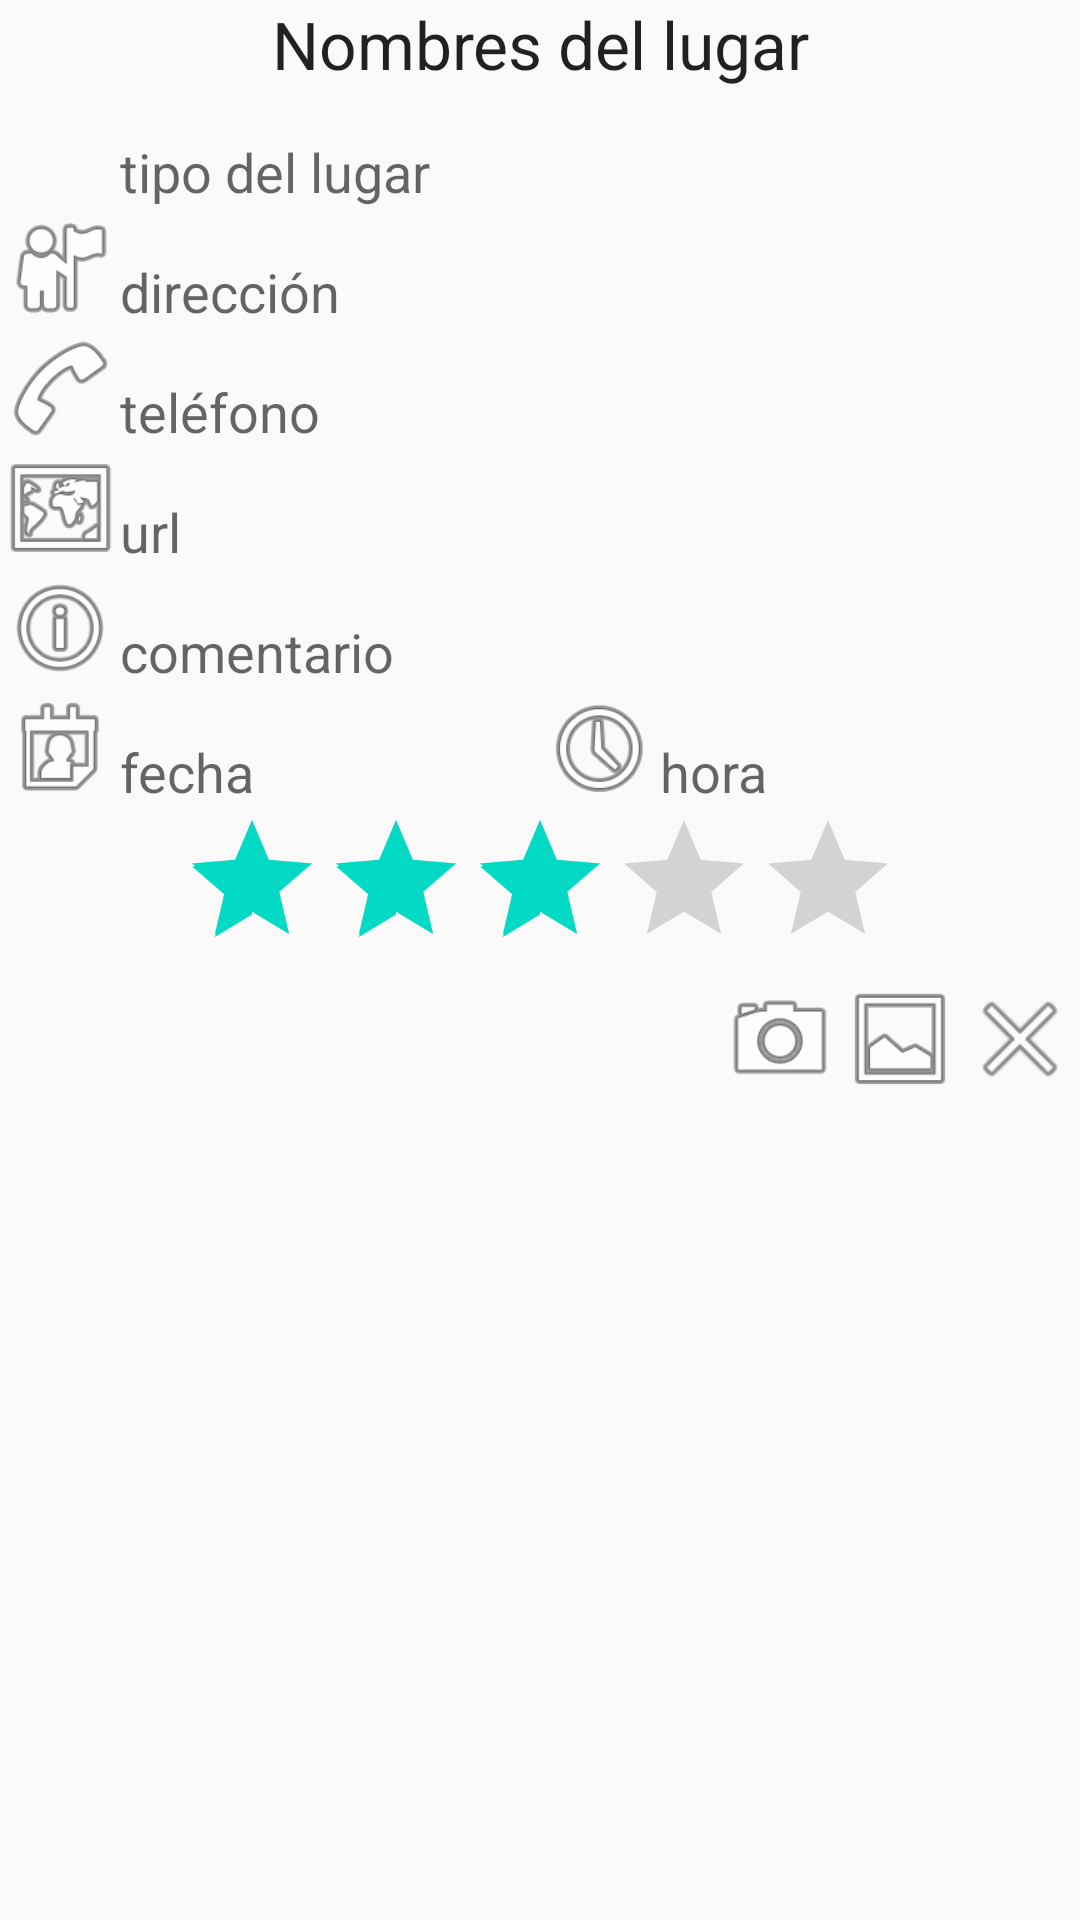

Icon click points for this 1080 × 1920 phone screenshot, format (x=x, y=y):
Eliminar foto: (x=1020, y=1039)
